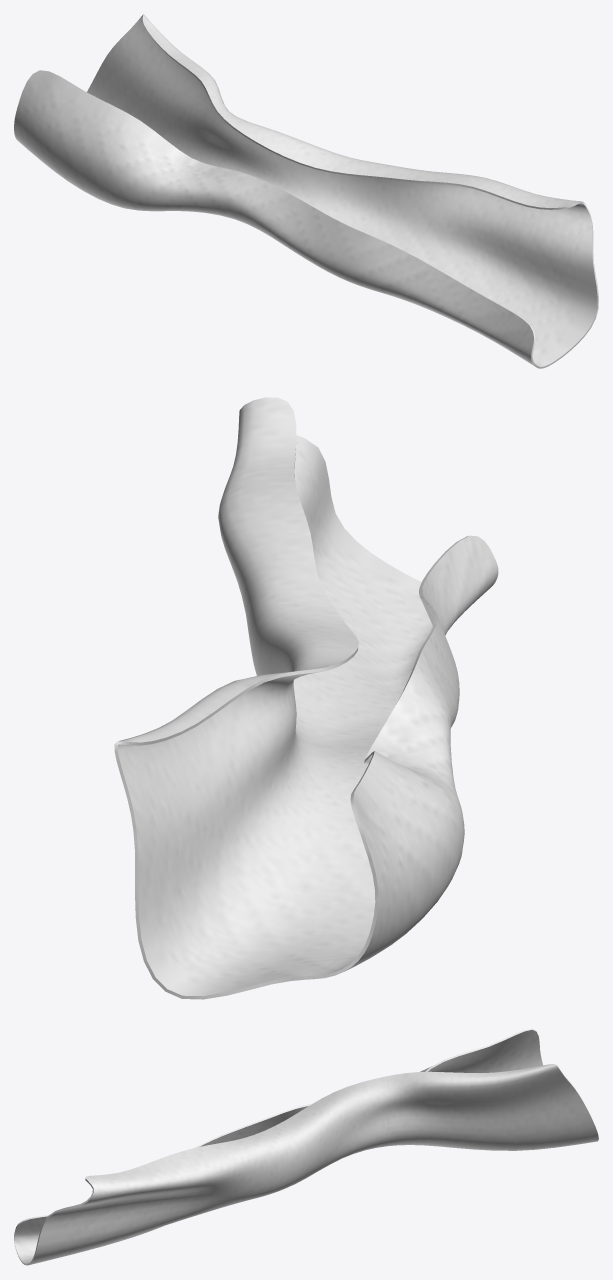
File: PaperTowel.fbx
The picture shows the model from 3 angles, top to bottom: view 1: azimuth 30°, elevation 25°; view 2: azimuth 150°, elevation 25°; view 3: azimuth 270°, elevation 25°; orthographic projection. The views are drawn at different scales.
Visible parts, largest first — view 1: PaperTowel; view 2: PaperTowel; view 3: PaperTowel.
Part boxes in pixels (x1,y1,x2,y2): PaperTowel: (14, 14, 598, 368); PaperTowel: (114, 397, 498, 999); PaperTowel: (14, 1028, 598, 1265).
Size of the model in its own units: 0.1359 by 0.0651 by 0.2334.
